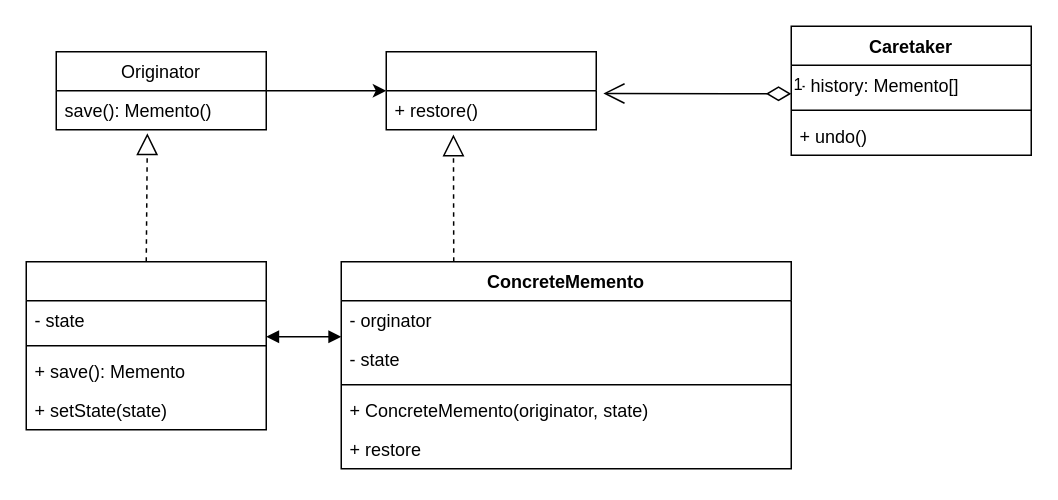
This 1058x500 diagram has some shape labels left out. Each missing label, with the box of its shape:
ConcreteOriginator: (25, 260, 266, 430)
Memento: (385, 50, 596, 130)
